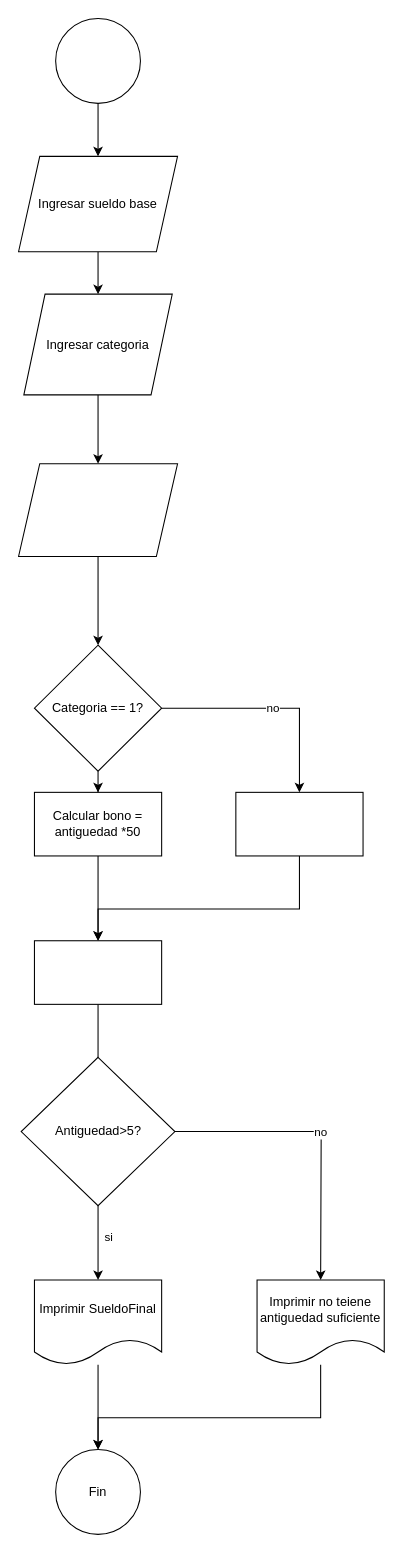
Some shapes in this 403 by 1553 pixel diagram are drawn without their labels. Each missing label, with the centre of its shape:
"Bono = 0" goes at point 299,823.
"Incio" goes at point 97,60.
"Ingresar antiguedad" goes at point 97,509.
"SueldoFinal = SueldoBase + Bono" goes at point 97,972.
